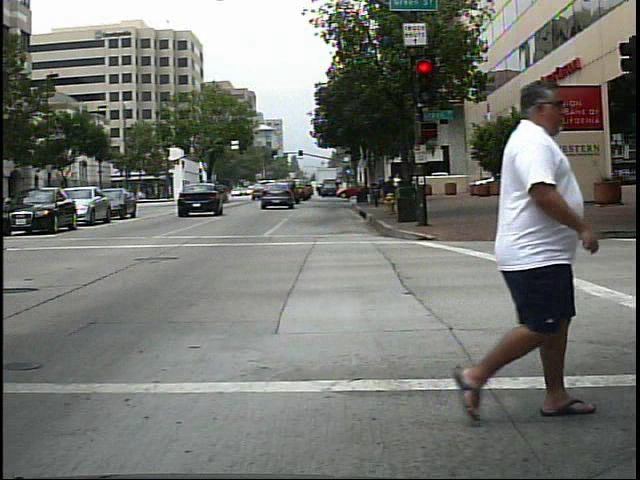person: (438, 72, 604, 430)
